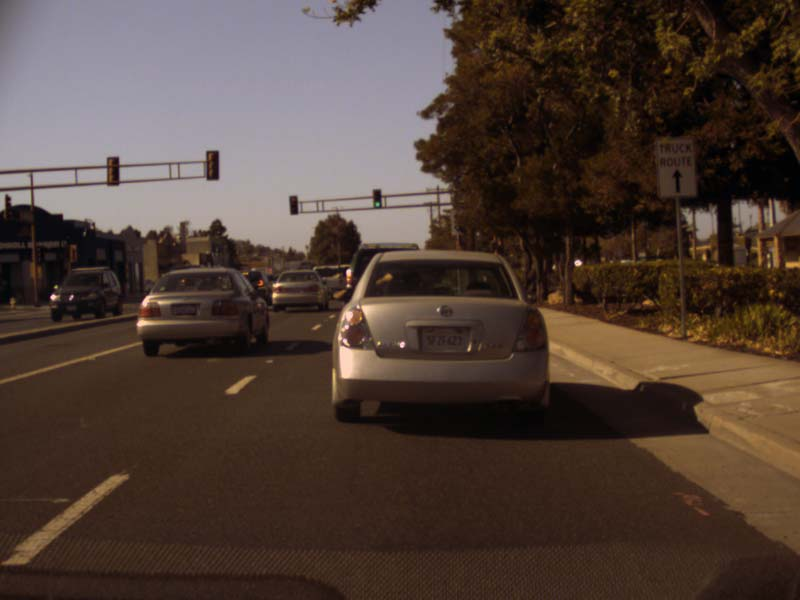Green: (372, 189, 382, 207)
Red: (289, 195, 298, 213)
